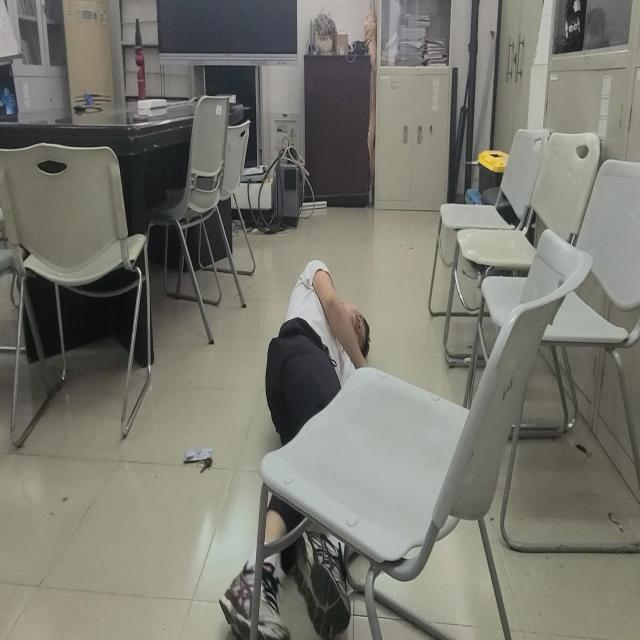Fall: (269, 261, 369, 444)
